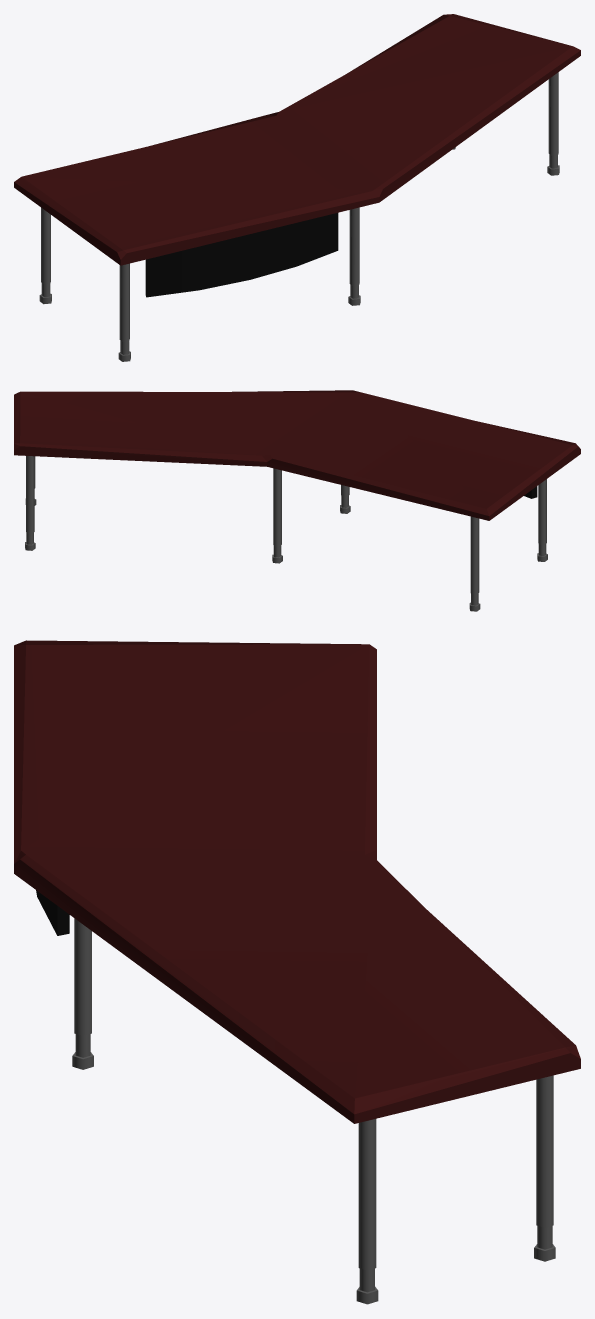
Rendered from OfficeTable-Long_01.fbx.
The picture shows the model from 3 angles, top to bottom: view 1: azimuth 30°, elevation 25°; view 2: azimuth 150°, elevation 25°; view 3: azimuth 270°, elevation 25°; orthographic projection. The views are drawn at different scales.
Visible parts, largest first — view 1: OfficeTable_01; view 2: OfficeTable_01; view 3: OfficeTable_01.
Boxes of the visible parts, x1,y1,x2,y2 form: OfficeTable_01: [14, 14, 580, 361]; OfficeTable_01: [14, 390, 580, 611]; OfficeTable_01: [14, 640, 580, 1304].
Bounding box in the file's own units: 3.84 × 0.8231 × 1.98.
